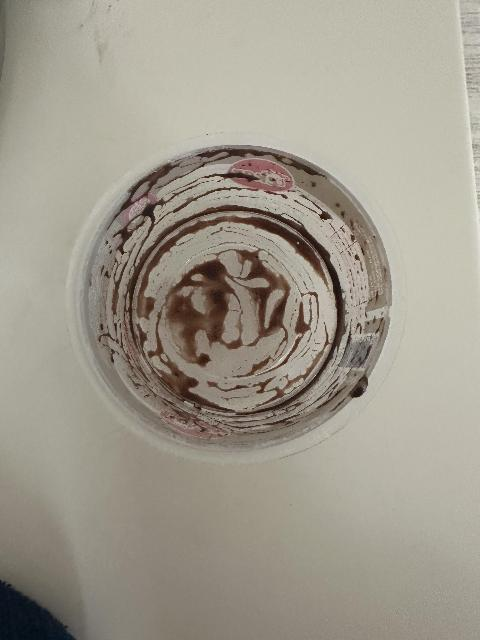Plastik: (56, 141, 395, 473)
